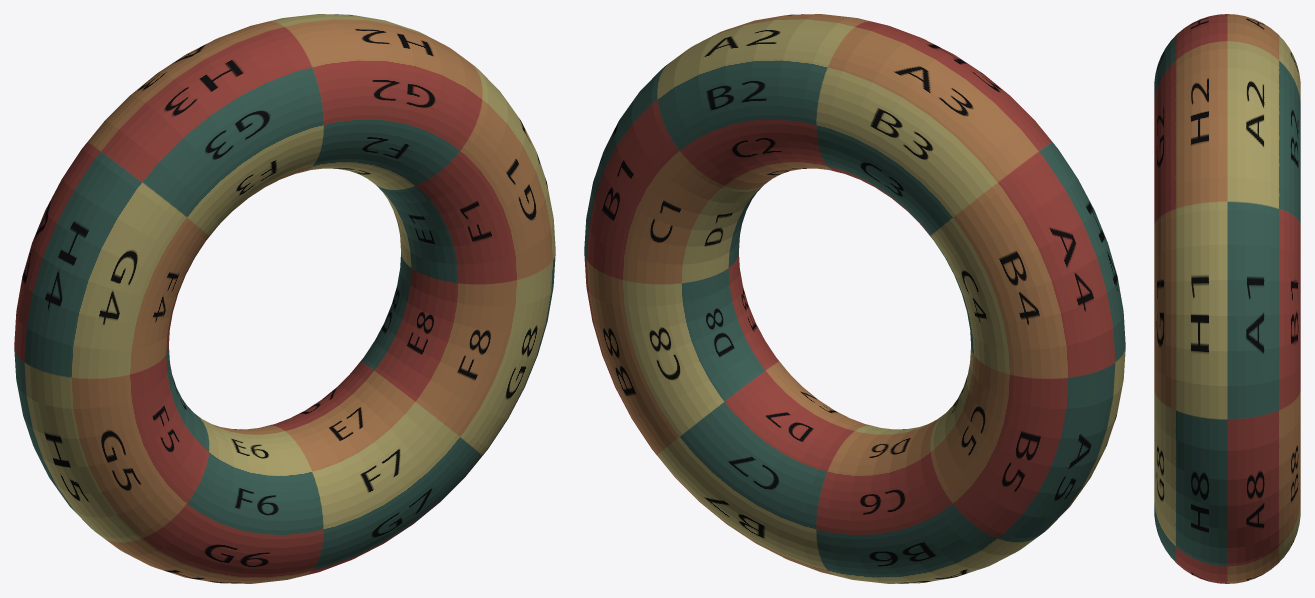
The model's file is texture_torus_R26_r28.glb.
3 views of the same model, side by side, from view 1: azimuth 30°, elevation 25°; view 2: azimuth 150°, elevation 25°; view 3: azimuth 270°, elevation 25° (orthographic). The views are drawn at different scales.
Visible parts, largest first — view 1: world; view 2: world; view 3: world.
Part boxes in pixels (box(x1,y1,x2,y2)): world: box(14, 14, 555, 583); world: box(584, 14, 1125, 583); world: box(1154, 14, 1300, 583).
Bounding box in the file's own units: 36.8 × 36.73 × 9.45.
Materials: 1 (1 with a texture image).
